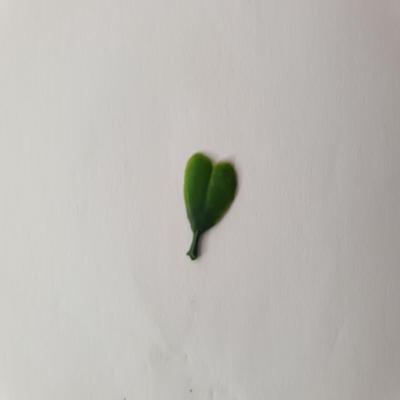plastic: (178, 150, 245, 268)
